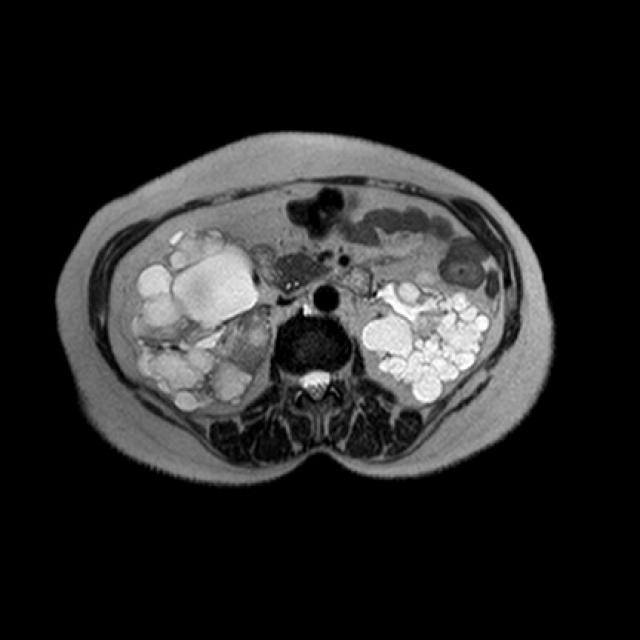sag: (127, 226, 274, 414)
sol: (362, 279, 492, 406)
